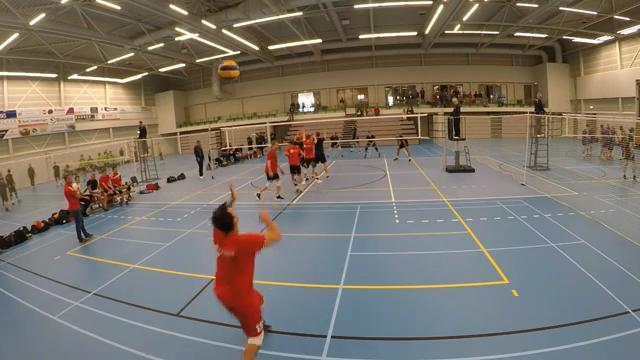Player: (256, 140, 283, 199), (285, 140, 303, 192), (314, 131, 329, 178), (302, 134, 315, 184), (393, 133, 411, 161), (364, 131, 380, 157), (328, 133, 343, 156), (351, 123, 361, 151)
Serve: (205, 179, 288, 359)
ball: (215, 59, 241, 83)
